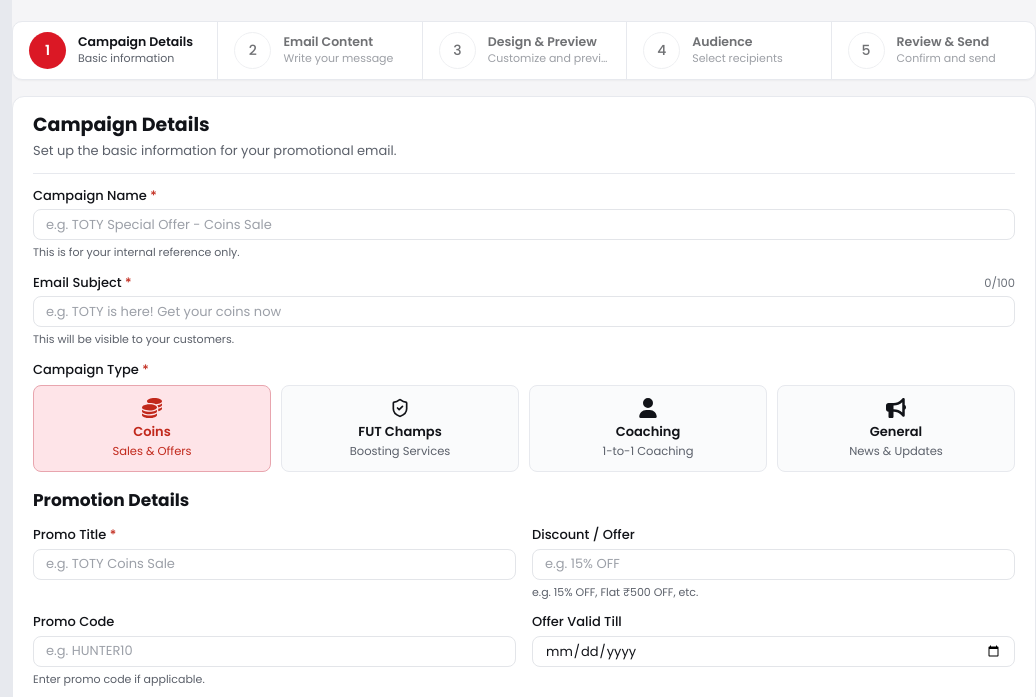
Test: Send Campaign › counts the subject and the description as they are typed
This screenshot has width=1036, height=697.
Type "TOTY is here" into the field labelled "Email Subject *" at (524, 312), box [33,296,1015,327]
(page scrolled)
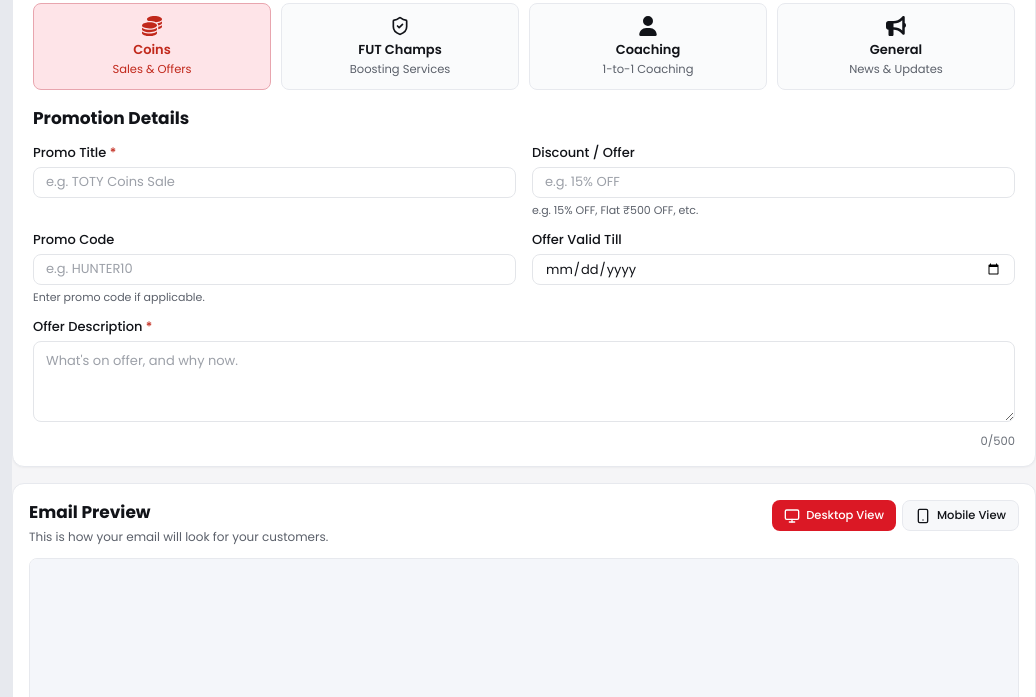
Type "Hello" into the text box labelled "Offer Description *" at (524, 382), box [33,341,1015,422]
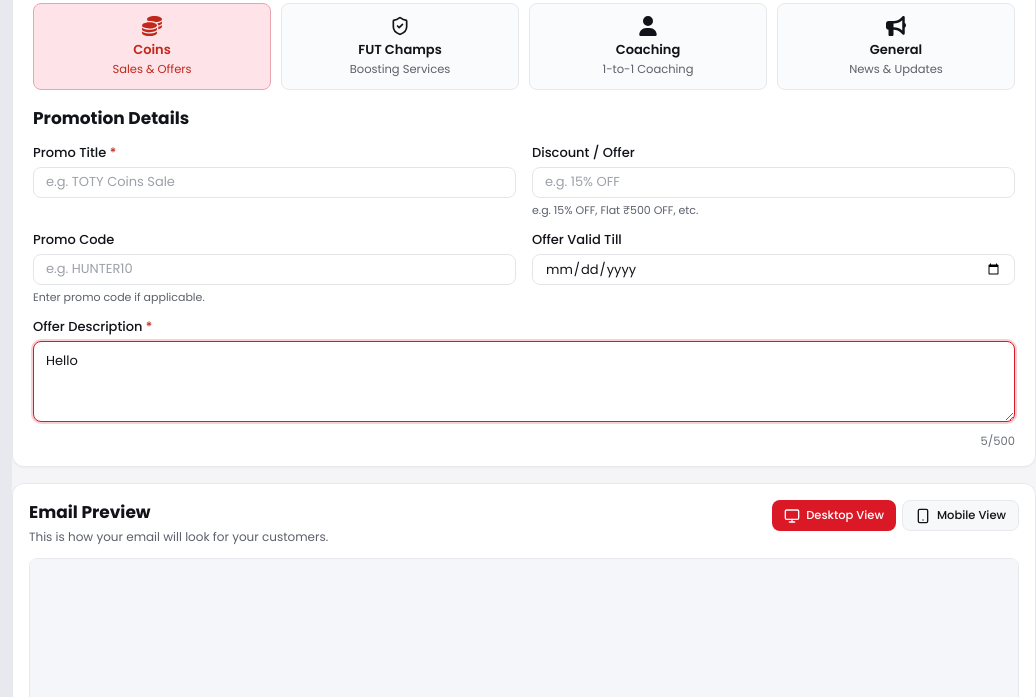
Check: the text "5/500" is shown, box [981,433,1015,450]
